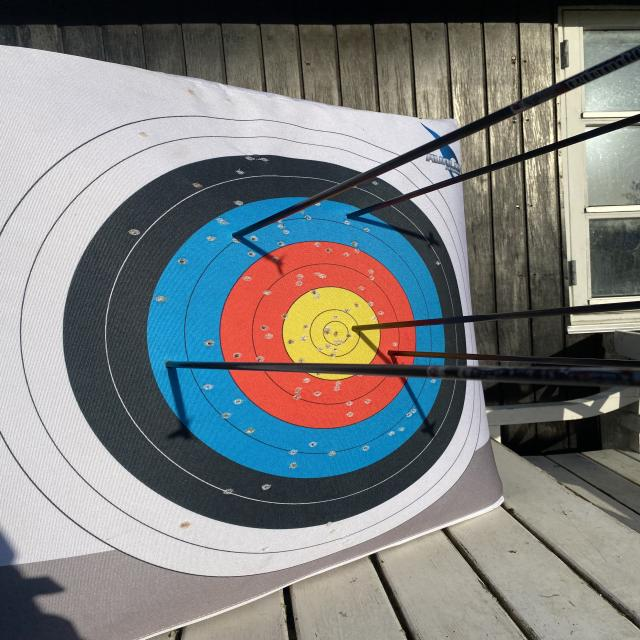Arrow_Blue: (153, 348, 195, 382), (222, 218, 259, 253), (338, 199, 373, 234)
Arrow_Red: (382, 339, 403, 370)
Arrow_Yellow: (346, 314, 378, 342)
